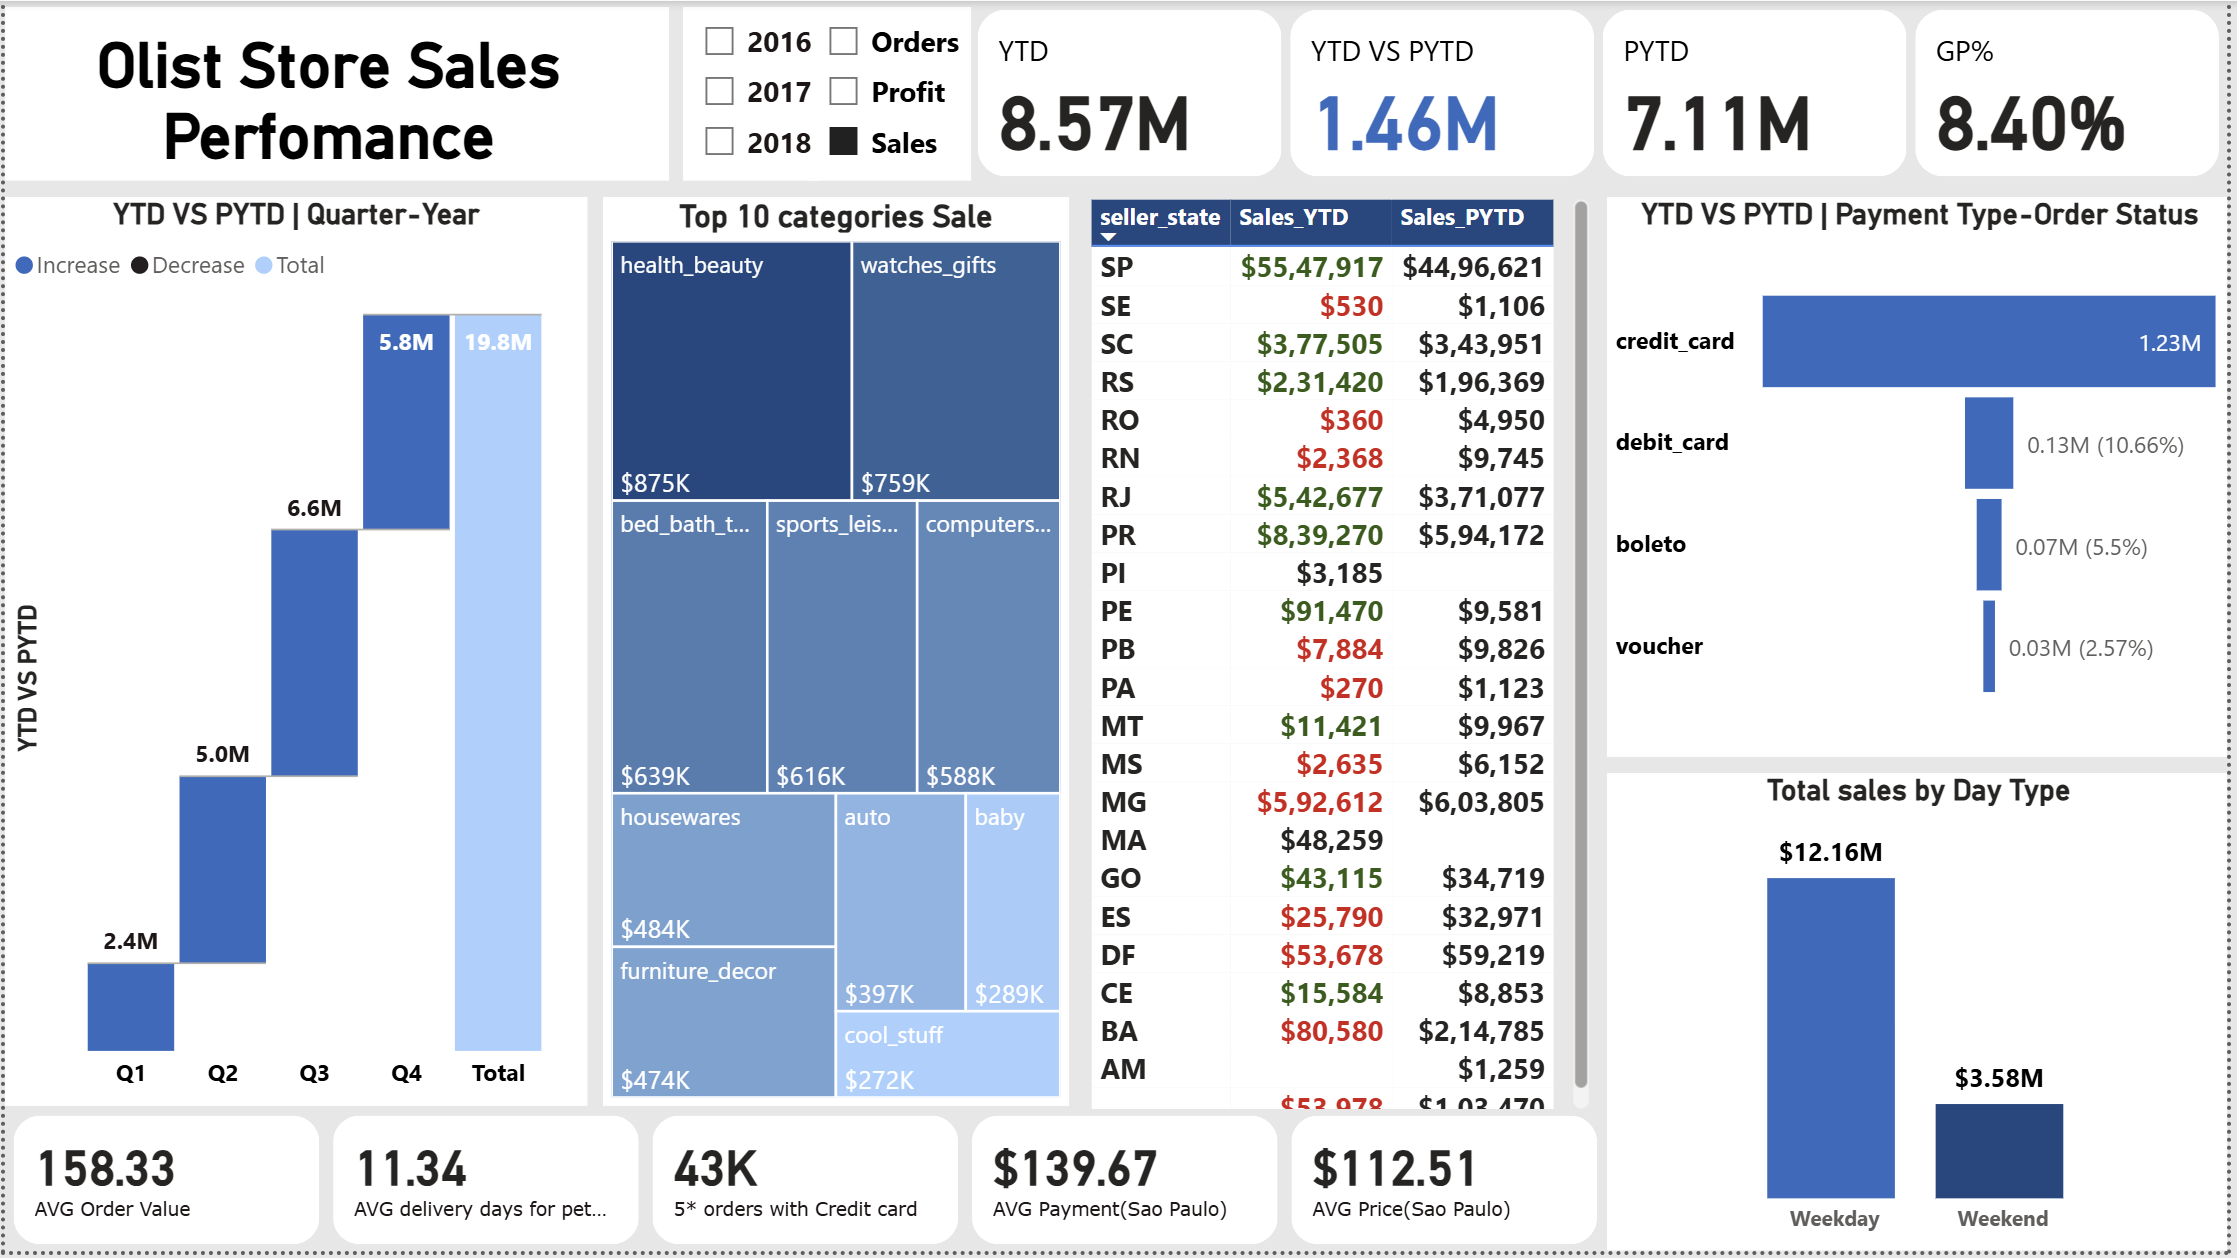

What the dashboard file says about the page in this screenshot:
{"tool":"powerbi","page":{"name":"Page 1","canvas":[1280,720],"ordinal":0},"visuals":[{"type":"cardVisual","fields":{"Data":["_Measures.Avg_order_value","_Measures.Avg_Delivery_Days_PetShop","_Measures.Orders_5Star_CreditCard_v2","_Measures.Avg_Payment(Sao Paulo)","_Measures.Avg_Price(Sao Paulo)"]},"box":[0,636.8,922.4,84.2],"z":0},{"type":"slicer","fields":{"Values":["SLC_Values.Values"]},"box":[461.8,3.9,94.7,100],"z":1000},{"type":"cardVisual","fields":{"Data":["_Measures.Switch_YTD","_Measures.YTD VS PYTD","_Measures.Switch_PYTD","_Measures.GP%"]},"box":[555.3,0,727.6,106.6],"z":2000},{"type":"tableEx","fields":{"Values":["olist_sellers_dataset.seller_state","_Measures.Sales_YTD","_Measures.Sales_PYTD"]},"box":[612.9,109.4,299.5,533.4],"z":3000},{"type":"lineStackedColumnComboChart","title":"Review Score - Shipping Days|Order Count","fields":{"Category":["olist_order_reviews_dataset.review_score"],"Y":["CountNonNull(olist_orders_dataset.order_id)"],"Y2":["Avg(olist_orders_dataset.Shipping_Days)"]},"box":[0,113.2,335.5,523.7],"z":4000},{"type":"funnel","title":"YTD VS PYTD  | Payment Type-Order Status","fields":{"Category":["olist_order_payments_dataset.payment_type","olist_orders_dataset.order_status"],"Y":["_Measures.YTD VS PYTD"]},"box":[922.4,113.2,360.5,322.4],"z":5000},{"type":"columnChart","title":"Total sales by Day Type","fields":{"Category":["olist_orders_dataset.Day Type"],"Y":["_Measures.Total_sales"]},"box":[922.4,444.7,359.2,275],"z":6000},{"type":"slicer","fields":{"Values":["DIM_Calendar.Date.Variation.Date Hierarchy.Year"]},"box":[390.5,3.5,79.5,100.2],"z":7000},{"type":"treemap","fields":{"Values":["_Measures.Sales_YTD"],"Group":["product_category_name_translation.product_category_name_english"]},"box":[344.7,113.2,268.4,523.7],"z":8000},{"type":"card","fields":{"Values":["_Measures.Report_title"]},"box":[0,3.5,382.5,100.2],"z":9000}]}

Visuals, with their boxes in screenshot pixels (x1, y1, x2, y2), scaled from the page's 1280x720 canvas onto the 2237x1258 screenshot:
cardVisual - _Measures.Avg_order_value x _Measures.Avg_Delivery_Days_PetShop: [0,1113,1612,1257]
slicer - SLC_Values.Values: [807,7,973,182]
cardVisual - _Measures.Switch_YTD x _Measures.YTD VS PYTD: [970,0,2236,186]
tableEx - olist_sellers_dataset.seller_state x _Measures.Sales_YTD: [1071,191,1595,1123]
"Review Score - Shipping Days|Order Count" lineStackedColumnComboChart: [0,198,586,1113]
"YTD VS PYTD  | Payment Type-Order Status" funnel: [1612,198,2236,761]
"Total sales by Day Type" columnChart: [1612,777,2236,1257]
slicer - DIM_Calendar.Date.Variation.Date Hierarchy.Year: [682,6,821,181]
treemap - _Measures.Sales_YTD x product_category_name_translation.product_category_name_english: [602,198,1071,1113]
card - _Measures.Report_title: [0,6,668,181]
